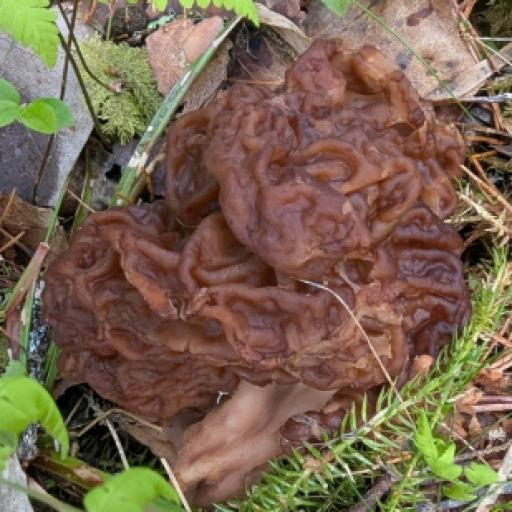mushroom: (60, 32, 471, 436)
